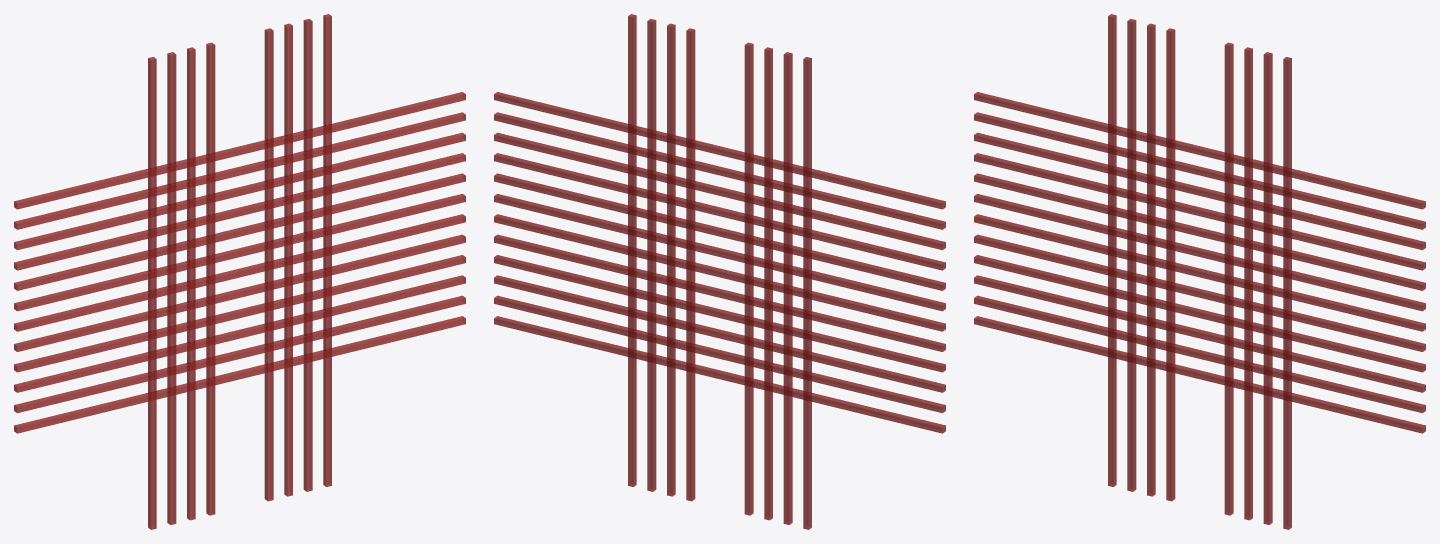
Rendered from Lvl_015.fbx.
The picture shows the model from 3 angles, left to right: view 1: azimuth 30°, elevation 25°; view 2: azimuth 150°, elevation 25°; view 3: azimuth 330°, elevation 25°; orthographic projection.
Parts seen in each view (by area): view 1: pCube8, pCube10, pCube5, pCube3, pCube21, pCube13, pCube17, pCube14, pCube15, pCube19, pCube12, pCube20 (+8 smaller); view 2: pCube8, pCube10, pCube3, pCube5, pCube13, pCube17, pCube20, pCube21, pCube19, pCube15, pCube23, pCube18 (+8 smaller); view 3: pCube3, pCube5, pCube8, pCube10, pCube17, pCube13, pCube15, pCube16, pCube21, pCube18, pCube20, pCube14 (+8 smaller).
Boxes of the visible parts, x1,y1,x2,y2 form: pCube8: (206,42,215,515); pCube10: (167,52,176,524); pCube5: (303,19,312,491); pCube3: (264,28,273,501); pCube21: (14,132,465,250); pCube13: (14,295,465,413); pCube17: (14,214,465,331); pCube14: (14,275,465,392); pCube15: (14,255,465,372); pCube19: (14,173,465,290); pCube12: (14,316,465,433); pCube20: (14,153,465,270); pCube8: (744,42,753,515); pCube10: (783,52,792,524); pCube3: (686,28,695,501); pCube5: (647,19,656,491); pCube13: (494,295,945,413); pCube17: (494,214,945,331); pCube20: (494,153,945,270); pCube21: (494,132,945,250); pCube19: (494,173,945,290); pCube15: (494,255,945,372); pCube23: (494,92,945,209); pCube18: (494,194,945,311); pCube3: (1224,42,1233,515); pCube5: (1263,52,1272,524); pCube8: (1166,28,1175,501); pCube10: (1127,19,1136,491); pCube17: (974,214,1425,331); pCube13: (974,295,1425,413); pCube15: (974,255,1425,372); pCube16: (974,234,1425,351); pCube21: (974,132,1425,250); pCube18: (974,194,1425,311); pCube20: (974,153,1425,270); pCube14: (974,275,1425,392).
Size of the model in its own units: 2000 by 2000 by 25.
